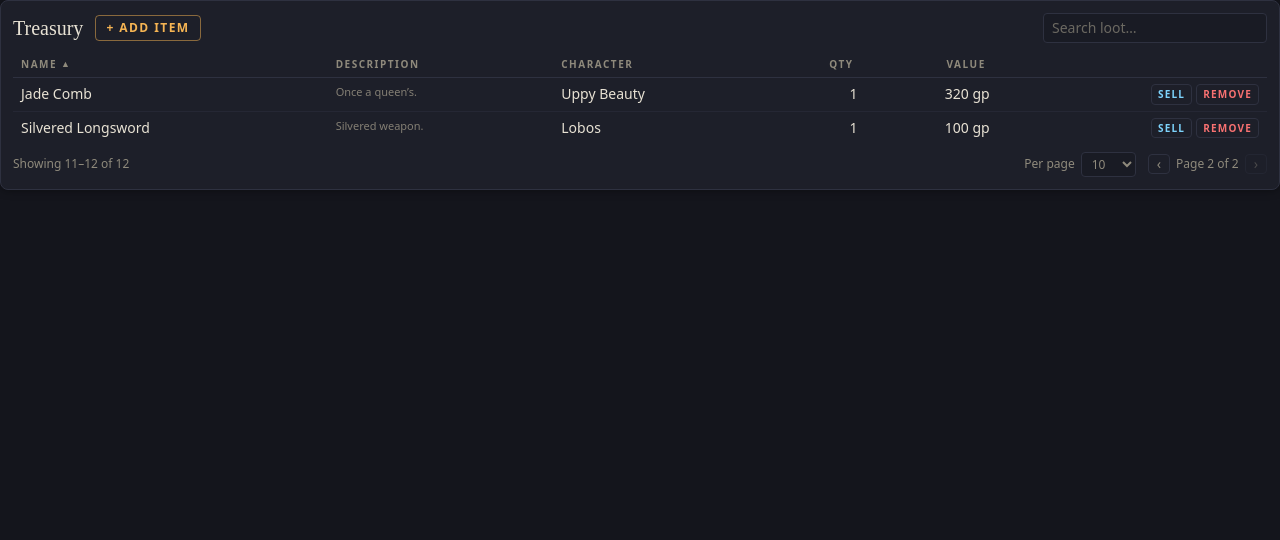
Test: LootTable — rendering and pagination › changing the page size re-paginates and returns to page 1
Select "25" in the dropdown with test id "loot-page-size" at (1108, 164), box left=1081, top=152, right=1136, bottom=177
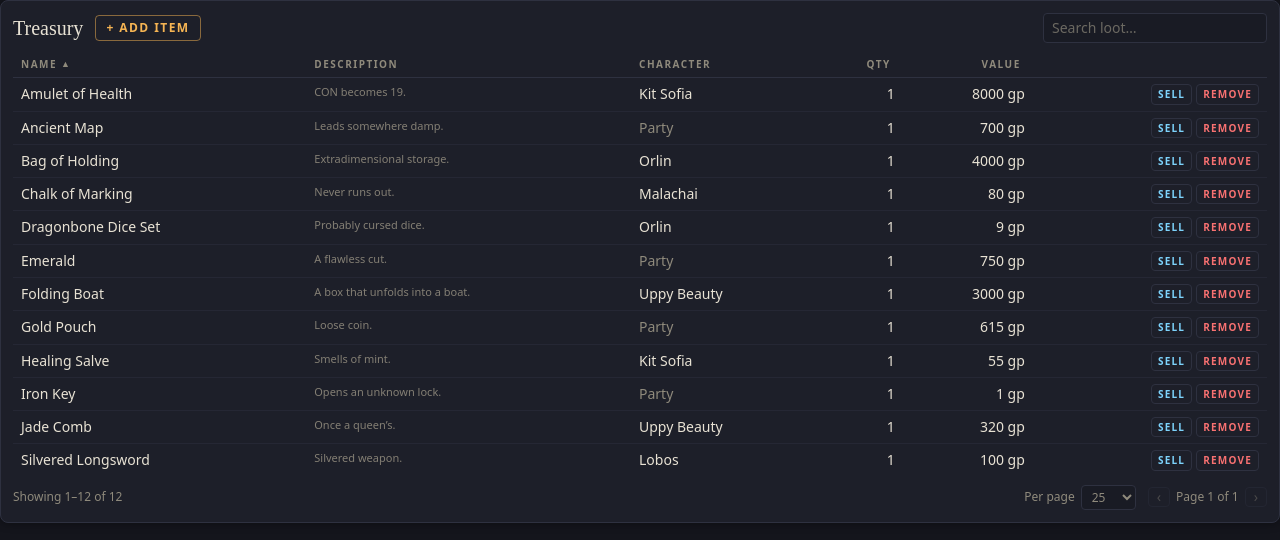
Check: the text with test id "loot-page-info" reads "Page 1 of 1", box left=1176, top=488, right=1239, bottom=505
Check: the number of rows with test id "loot-row" is 12
